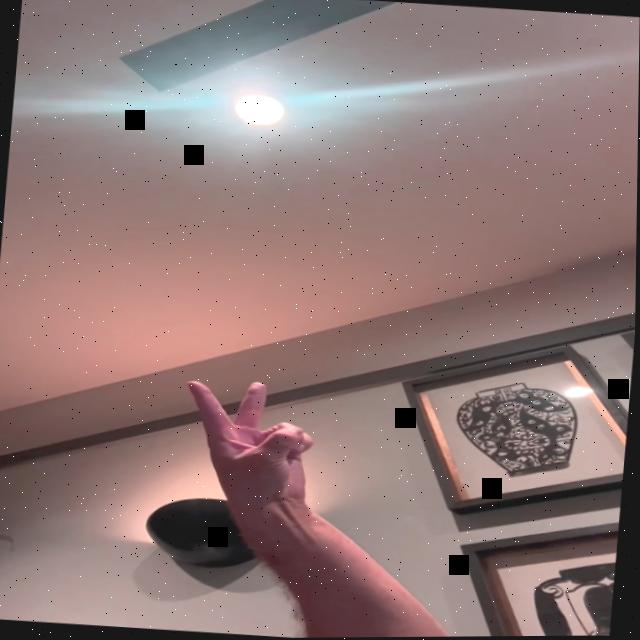Scissors: (171, 374, 332, 515)
